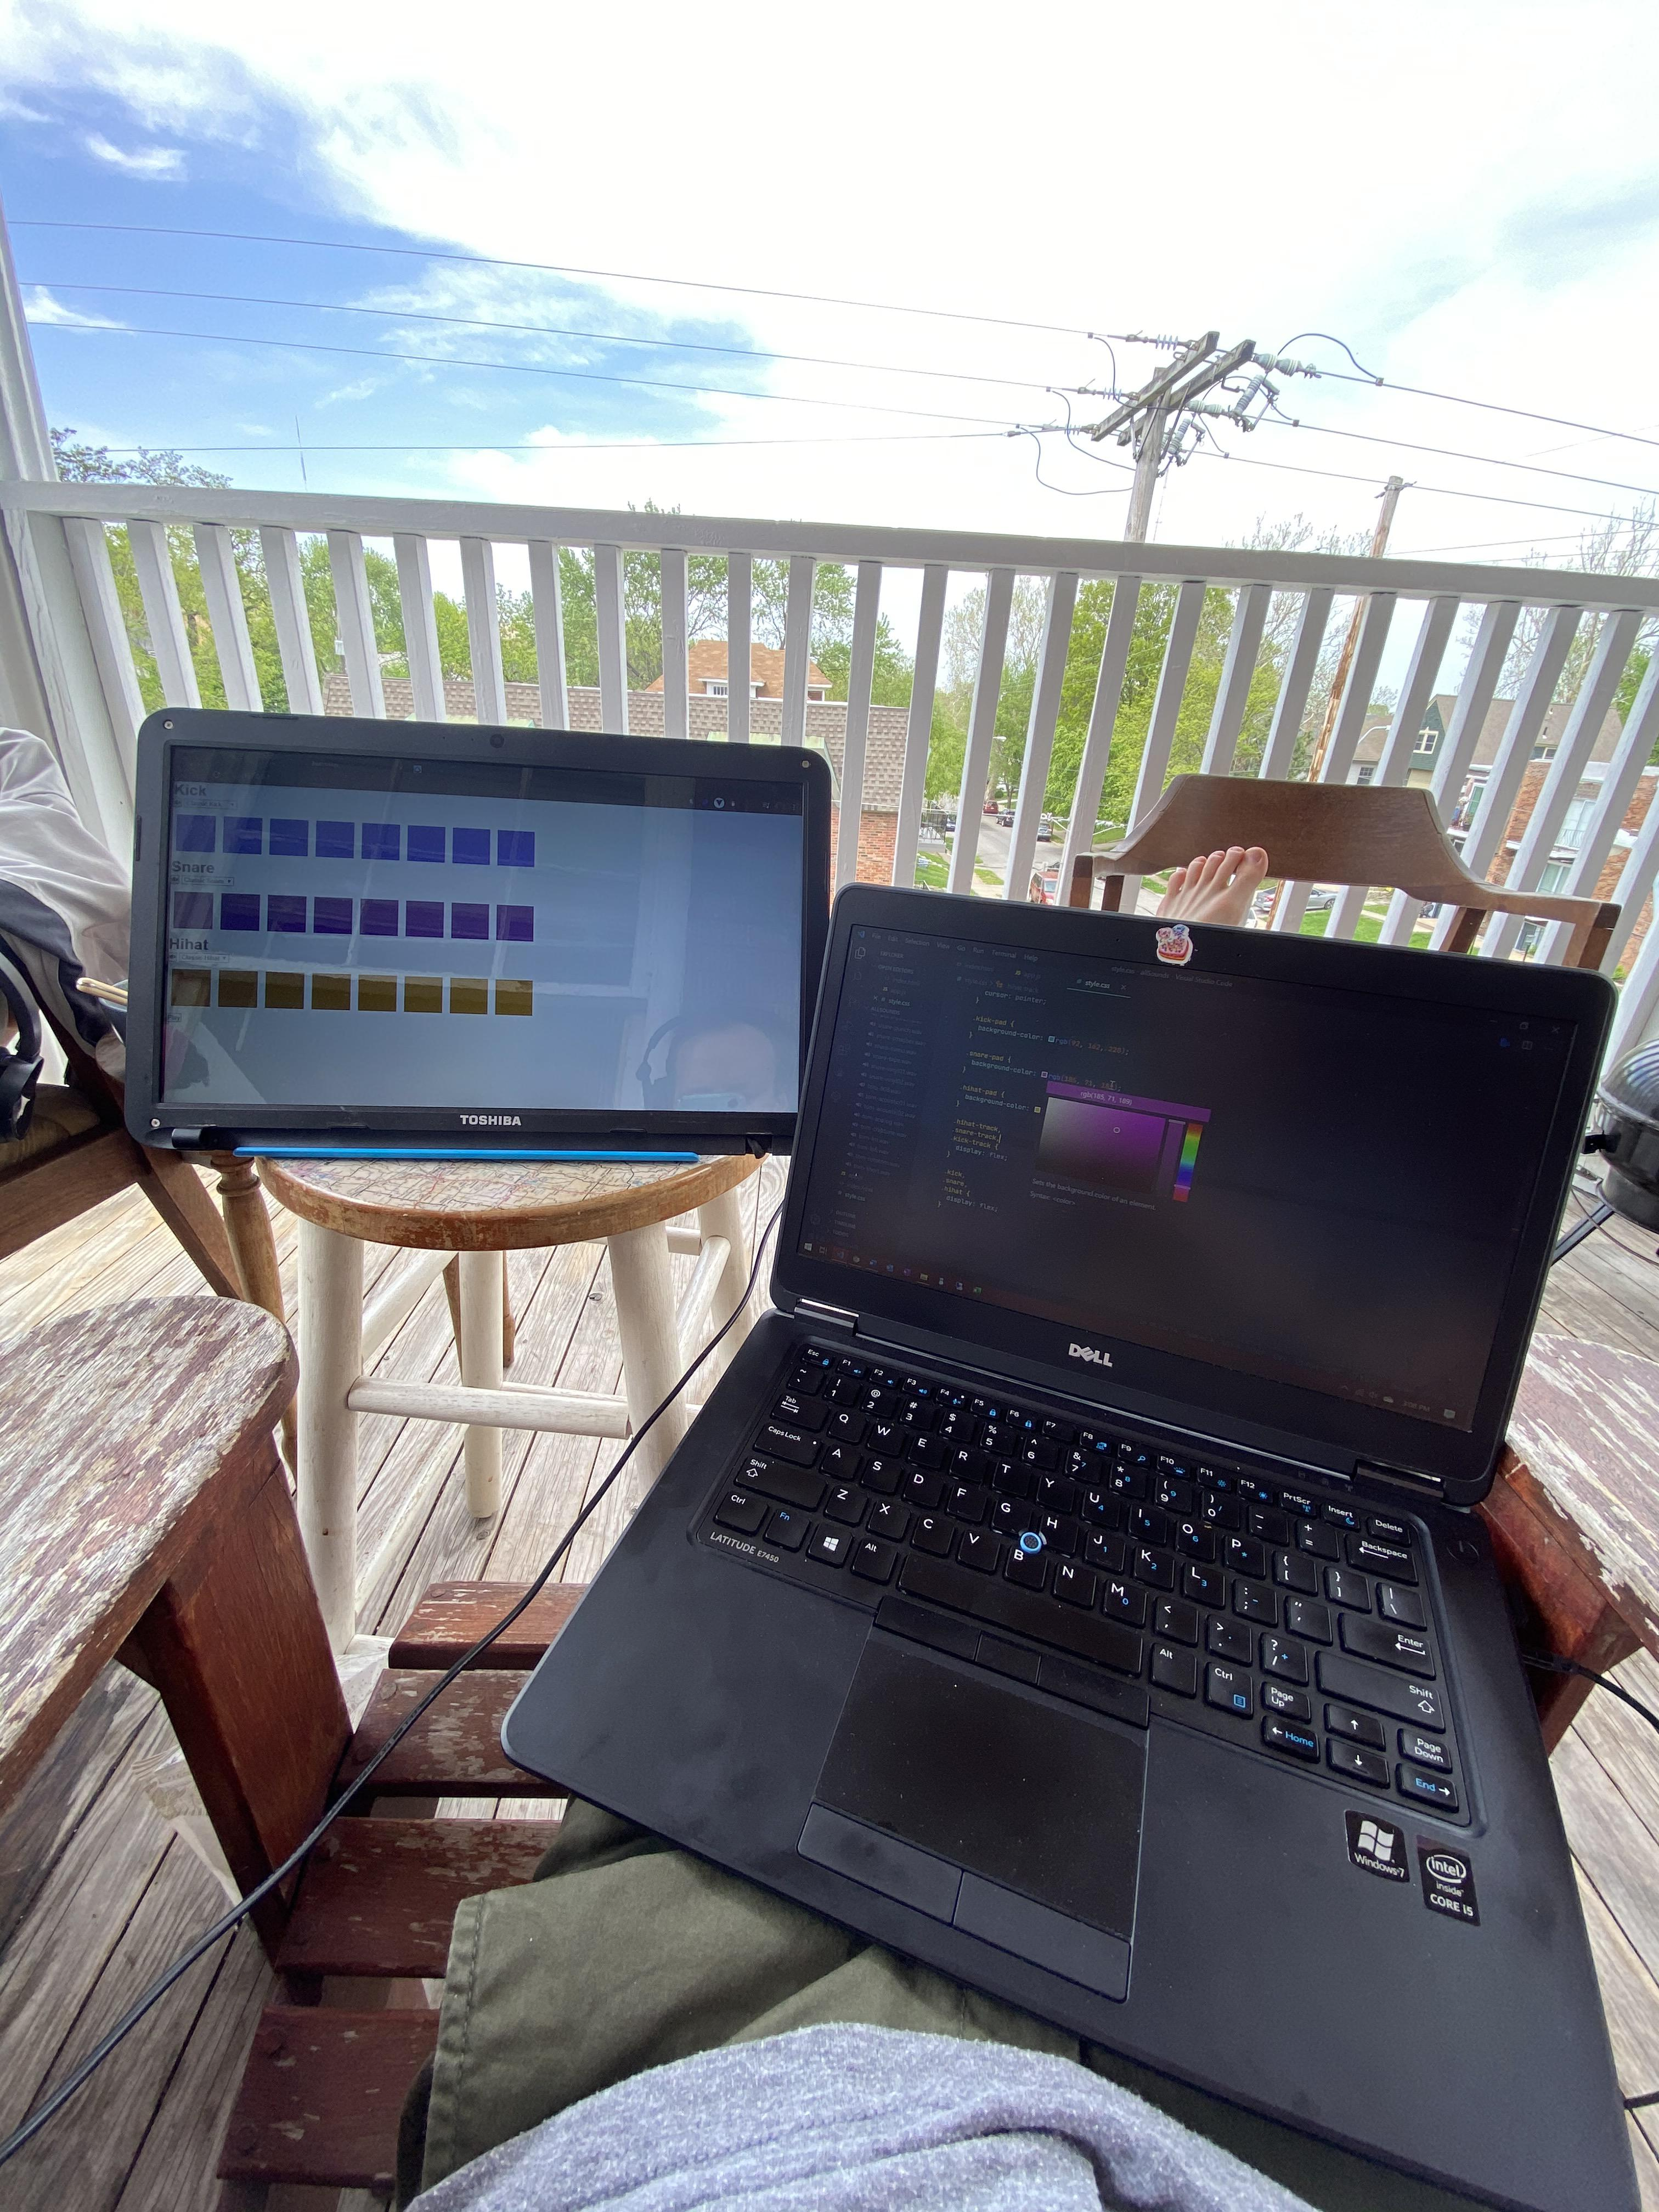Laptop (Windows): (502, 887, 1659, 2212)
Monitor (Landscape): (138, 698, 823, 1143)
Monitor (Laptop): (767, 894, 1614, 1465)
